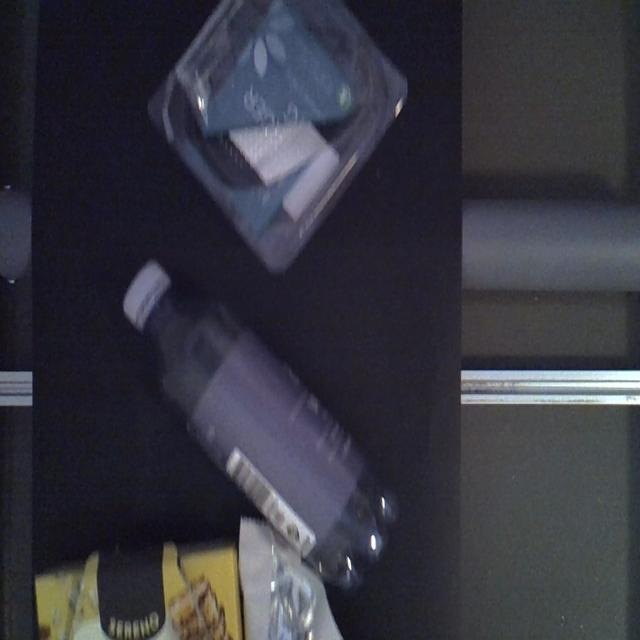bottle-plastic: (120, 254, 402, 591)
carton: (34, 534, 246, 637)
mixed-plastics: (145, 0, 412, 279)
packaging-soft-plastic: (234, 513, 345, 640)
